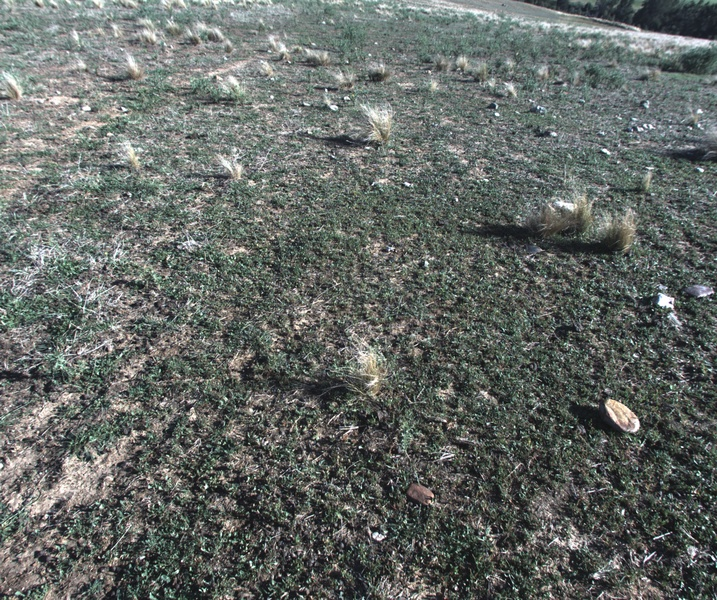st: (330, 327, 390, 404), (585, 211, 635, 259), (548, 189, 596, 234), (362, 102, 394, 147), (114, 139, 151, 172), (217, 151, 248, 185), (1, 68, 26, 102), (119, 53, 145, 83), (696, 117, 717, 154), (364, 59, 390, 86), (267, 32, 290, 59), (175, 24, 203, 45), (636, 170, 658, 195), (203, 25, 227, 46), (134, 27, 158, 46), (302, 49, 327, 66), (477, 58, 487, 90), (533, 63, 553, 79), (254, 60, 272, 77), (502, 80, 518, 99), (130, 17, 154, 29), (432, 55, 446, 73), (455, 57, 467, 78)
